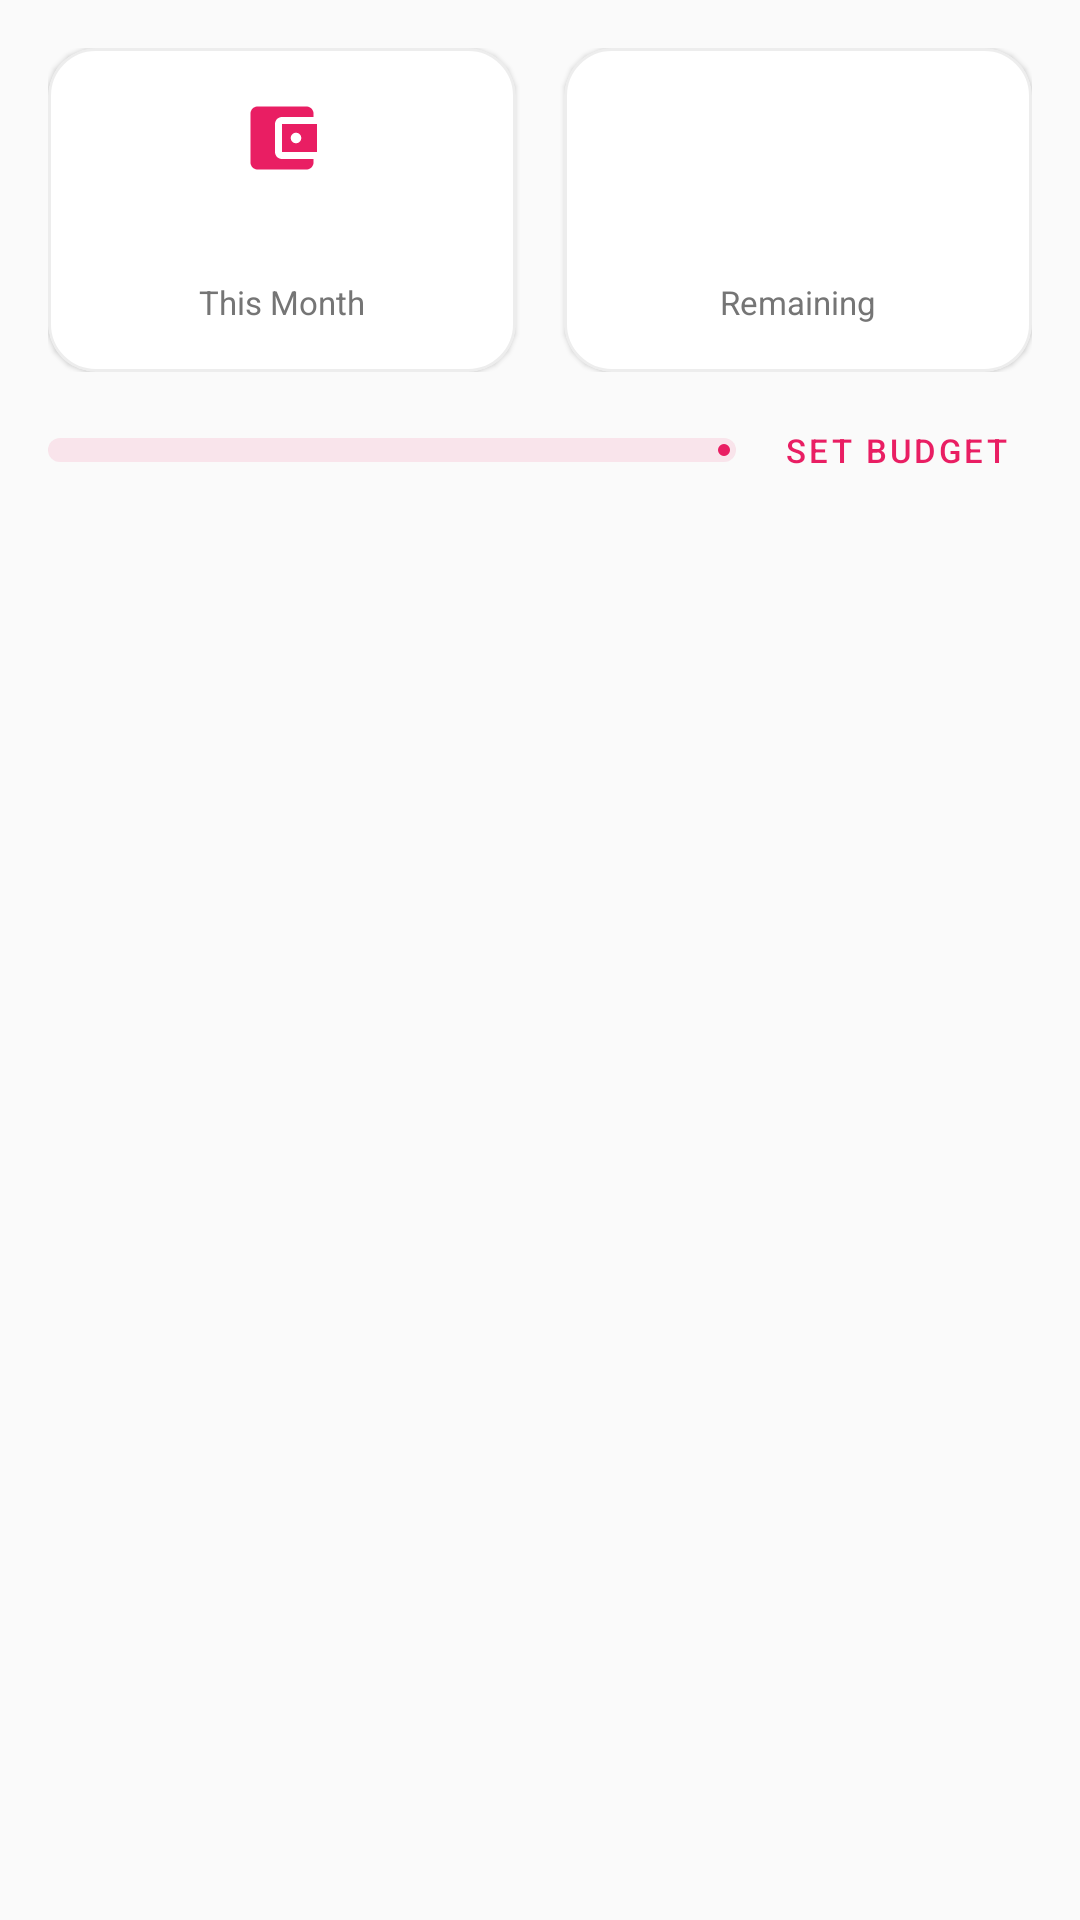

Point at icon controls on the screen. Image size 1080px x 1920px, points as [x,y].
wallet: [283,138]
